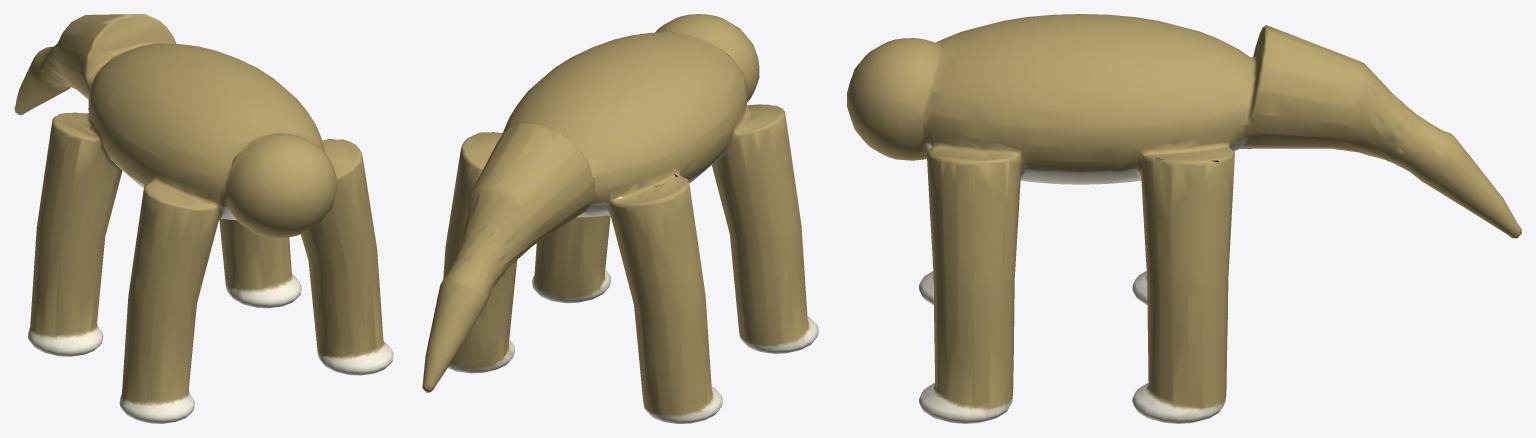
File: dino-large-body.glb
3 views of the same model, side by side, from view 1: azimuth 30°, elevation 25°; view 2: azimuth 150°, elevation 25°; view 3: azimuth 270°, elevation 25° (orthographic). The views are drawn at different scales.
Visible parts, largest first — view 1: dino-large-body; view 2: dino-large-body; view 3: dino-large-body.
Part boxes in pixels (<box>): dino-large-body: <box>14,14,393,423</box>; dino-large-body: <box>422,14,818,423</box>; dino-large-body: <box>847,14,1521,423</box>.
Size of the model in its own units: 9.94 by 10.2 by 18.98.
Materials: 1 (1 with a texture image).
